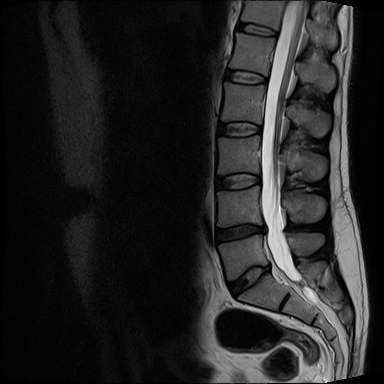Lumbar Disc Bulge (LDB): (222, 251, 289, 305), (208, 203, 277, 248)
Normal IVD: (211, 168, 263, 196), (233, 14, 280, 42), (221, 62, 271, 88), (213, 116, 265, 140)
Spinal Stenosis (SS): (259, 255, 280, 286), (253, 215, 273, 242)
